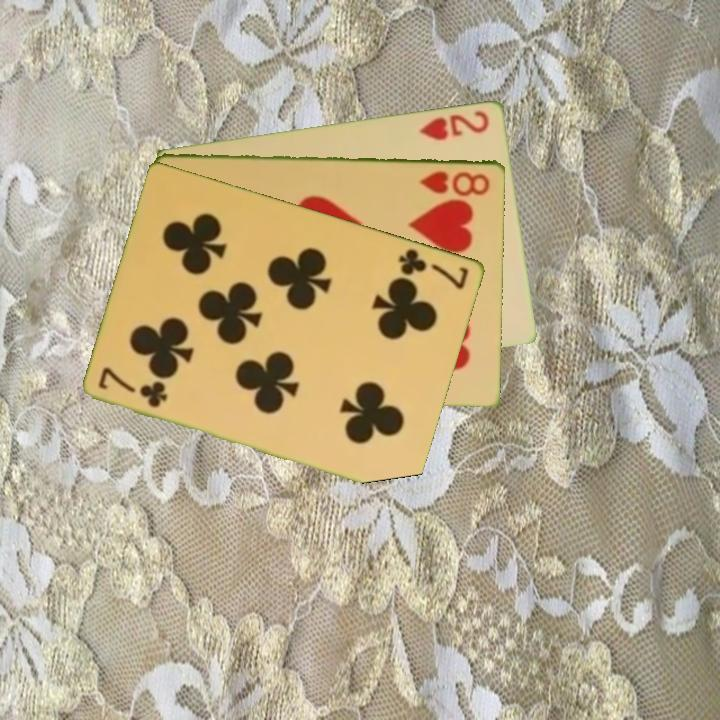2h: (416, 107, 492, 143)
7c: (395, 244, 472, 292), (95, 364, 171, 410)
8h: (417, 167, 493, 197)
